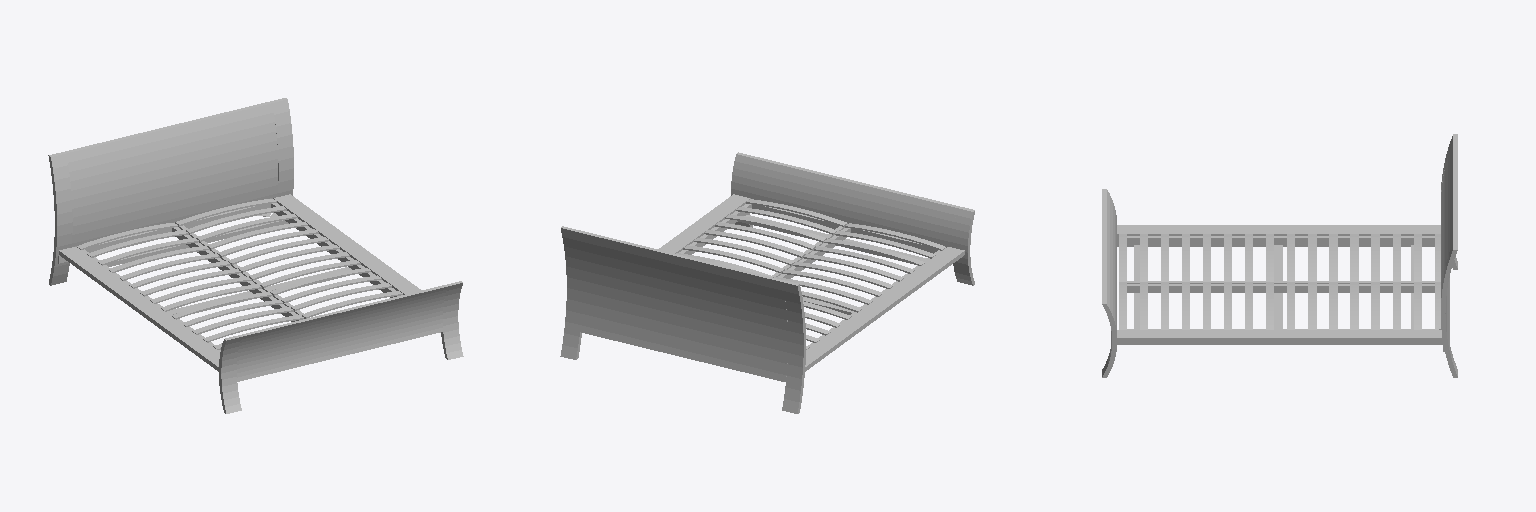
File: bed.obj
3 renders of one model, left to right at view 1: azimuth 30°, elevation 25°; view 2: azimuth 150°, elevation 25°; view 3: azimuth 270°, elevation 25°, orthographic.
Parts seen in each view (by area): view 1: temida_bw_001, temida_zm_001, Layer1_001, Group_007, Group_002, Group_006, listwa_032, listwa_021, listwa_026, listwa_004, listwa_029, listwa_019 (+19 smaller); view 2: temida_bw_001, temida_zm_001, Layer1_001, Group_006, Group_007, Group_002, listwa_029, listwa_020, listwa_022, listwa_008, listwa_007, listwa_026 (+8 smaller); view 3: Layer1_001, temida_bw_001, Group_006, temida_zm_001, Group_007, Group_002.
Part boxes in pixels (left/top/right/bottom): temida_bw_001: left=48, top=98, right=293, bottom=285; temida_zm_001: left=219, top=281, right=463, bottom=413; Layer1_001: left=59, top=194, right=421, bottom=371; Group_007: left=178, top=203, right=396, bottom=318; Group_002: left=100, top=220, right=351, bottom=314; Group_006: left=81, top=227, right=298, bottom=351; listwa_032: left=249, top=252, right=349, bottom=279; listwa_021: left=217, top=229, right=318, bottom=256; listwa_026: left=302, top=291, right=402, bottom=318; listwa_004: left=192, top=307, right=293, bottom=334; listwa_029: left=270, top=268, right=370, bottom=295; listwa_019: left=196, top=214, right=297, bottom=241; temida_bw_001: left=560, top=226, right=805, bottom=413; temida_zm_001: left=731, top=152, right=974, bottom=285; Layer1_001: left=658, top=194, right=964, bottom=371; Group_006: left=778, top=228, right=940, bottom=346; Group_007: left=679, top=204, right=844, bottom=277; Group_002: left=738, top=215, right=926, bottom=314; listwa_029: left=683, top=245, right=784, bottom=272; listwa_020: left=704, top=230, right=805, bottom=257; listwa_022: left=736, top=207, right=836, bottom=234; listwa_008: left=845, top=223, right=945, bottom=250; listwa_007: left=793, top=262, right=893, bottom=288; listwa_026: left=715, top=222, right=815, bottom=249; Layer1_001: left=1117, top=225, right=1442, bottom=344; temida_bw_001: left=1441, top=134, right=1457, bottom=377; Group_006: left=1127, top=236, right=1434, bottom=283; temida_zm_001: left=1102, top=189, right=1116, bottom=377; Group_007: left=1127, top=284, right=1434, bottom=329; Group_002: left=1134, top=245, right=1413, bottom=328.
Bounding box in the file's own units: 66.14 × 34.28 × 86.09.